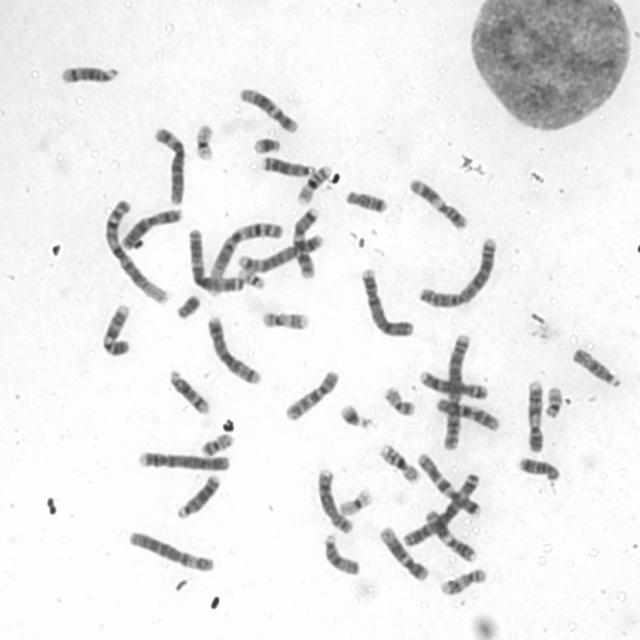A1: (102, 199, 170, 306), (204, 220, 283, 298)
A2: (417, 235, 498, 311), (442, 332, 470, 451)
A3: (402, 472, 481, 548), (187, 226, 245, 293)
B4: (360, 266, 414, 338), (139, 451, 231, 473)
B5: (204, 315, 264, 386), (238, 233, 324, 274)
C10: (284, 368, 341, 424), (435, 397, 500, 432)
C11: (408, 178, 470, 232), (424, 508, 477, 563)
C12: (376, 526, 431, 582), (238, 86, 301, 134)
C6: (126, 529, 216, 574), (152, 125, 187, 208)
C7: (416, 452, 480, 516), (290, 208, 321, 280)
C8: (317, 467, 355, 534), (418, 369, 489, 400)
C9: (101, 301, 133, 357), (526, 380, 543, 452)
D13: (175, 473, 222, 521), (260, 156, 316, 178)
D14: (167, 368, 213, 418), (58, 60, 122, 86)
D15: (571, 346, 623, 391), (323, 531, 362, 579)
E16: (376, 441, 420, 484), (297, 166, 332, 206)
E17: (437, 567, 488, 598), (259, 310, 312, 334)
E18: (343, 188, 390, 216), (519, 456, 561, 482)
F19: (338, 486, 374, 517), (193, 120, 216, 163)
F20: (382, 382, 416, 416), (200, 431, 235, 458)
G21: (338, 403, 376, 429), (250, 134, 284, 155)
G22: (235, 265, 265, 290), (544, 384, 564, 420)
X: (120, 206, 184, 253)
Y: (174, 294, 202, 321)
